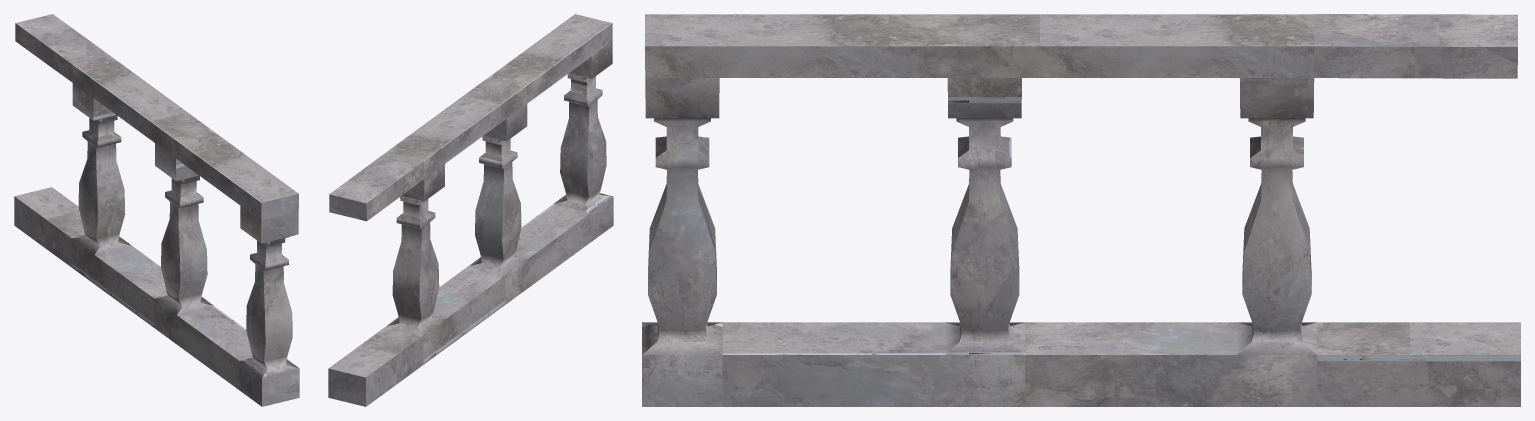
Rendered from banLeft.fbx.
3 views of the same model, side by side, from view 1: azimuth 30°, elevation 25°; view 2: azimuth 150°, elevation 25°; view 3: azimuth 270°, elevation 25° (orthographic). The views are drawn at different scales.
Parts seen in each view (by area): view 1: polySurface32; view 2: polySurface32; view 3: polySurface32.
Boxes of the visible parts, box(x1,y1,x2,y2) form: polySurface32: box(14, 14, 299, 406); polySurface32: box(328, 14, 613, 406); polySurface32: box(642, 14, 1520, 406).
Bounding box in the file's own units: 0.3894 × 2.01 × 4.43.
1 material, 1 textured.
